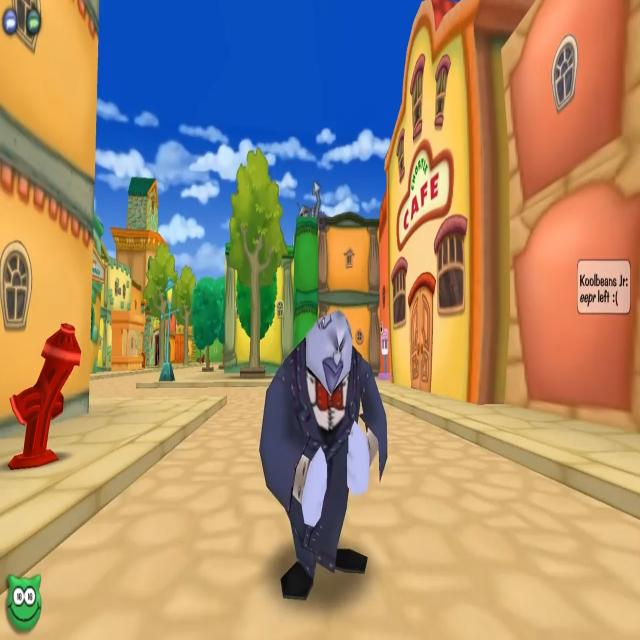bottomfeeder: (256, 301, 391, 588)
